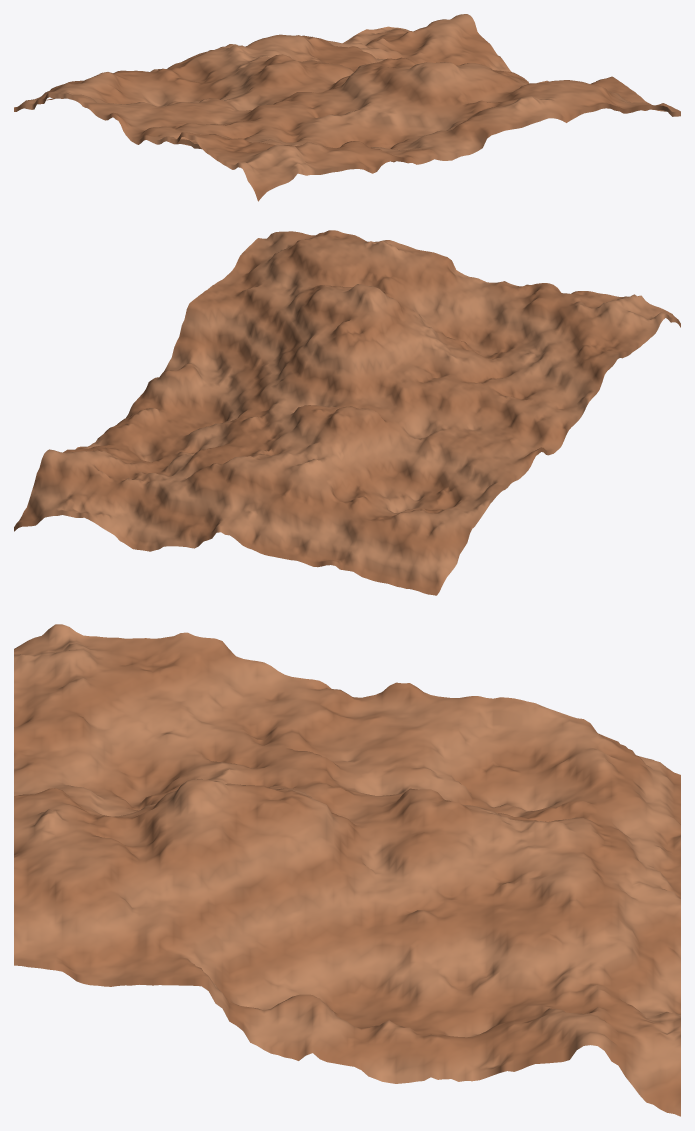
Rendered from terrain-033.glb.
The picture shows the model from 3 angles, top to bottom: view 1: azimuth 30°, elevation 25°; view 2: azimuth 150°, elevation 25°; view 3: azimuth 270°, elevation 25°; orthographic projection. The views are drawn at different scales.
Visible parts, largest first — view 1: terrain-033; view 2: terrain-033; view 3: terrain-033.
Boxes of the visible parts, <box> form: terrain-033: <box>14,14,680,201</box>; terrain-033: <box>14,230,680,595</box>; terrain-033: <box>14,624,680,1116</box>.
Bounding box in the file's own units: 384 × 136 × 384.
